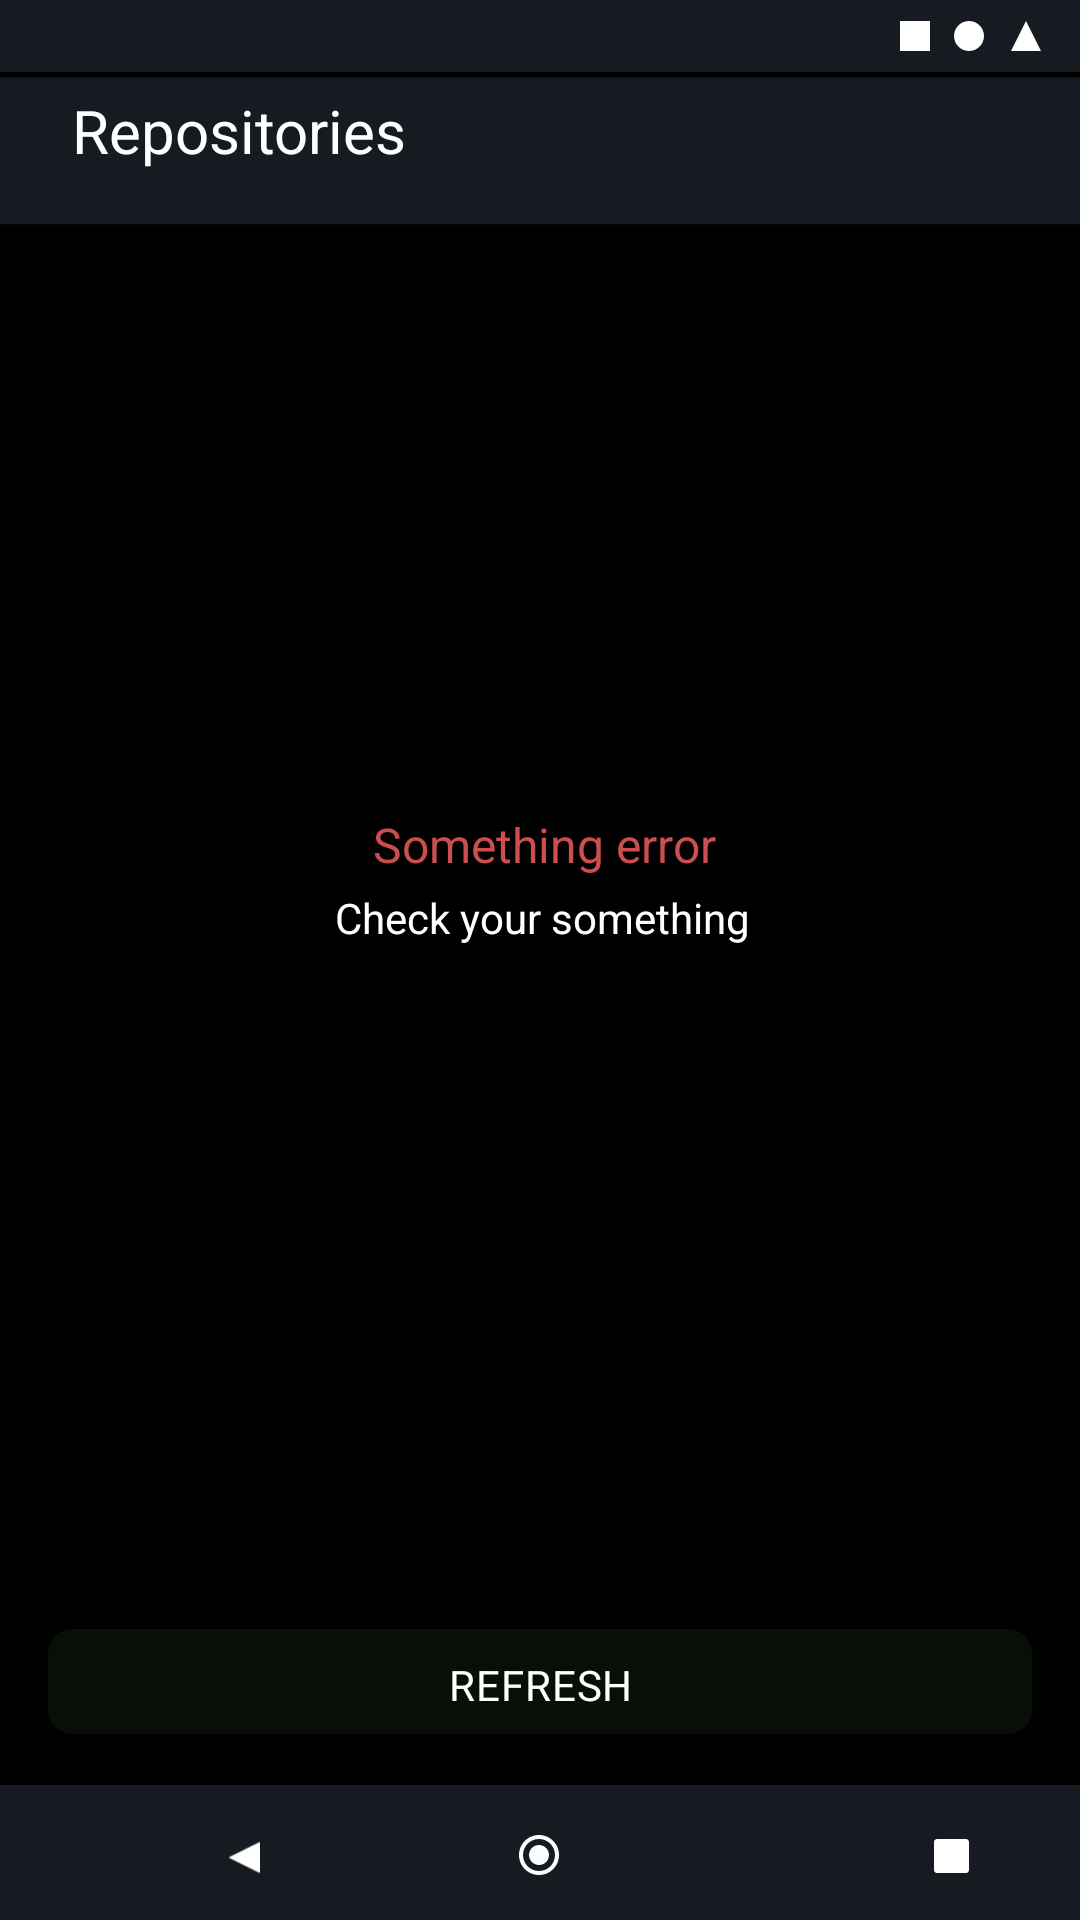

Icon click points for this 1080×1920 phone screenshot, format (x,y):
radio checked: (539,1855)
